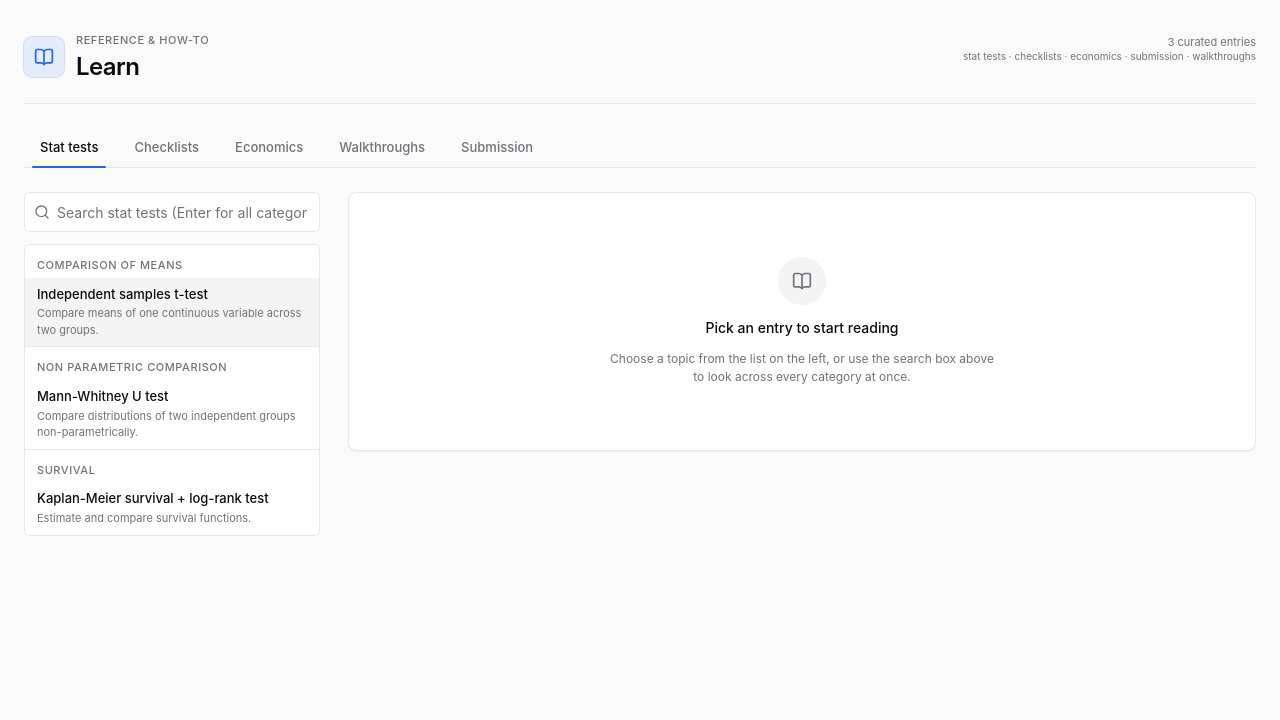
Test: LearnPage › filters the entry list when the user types in the search box
The width and height of the screenshot is (1280, 720).
Expected: the button with test id "learn-entry-independent-t-test" is shown, [25,278,319,346]
In the field with test id "learn-search-input": coordinates (172, 212) [24,192,320,232], type "mann"
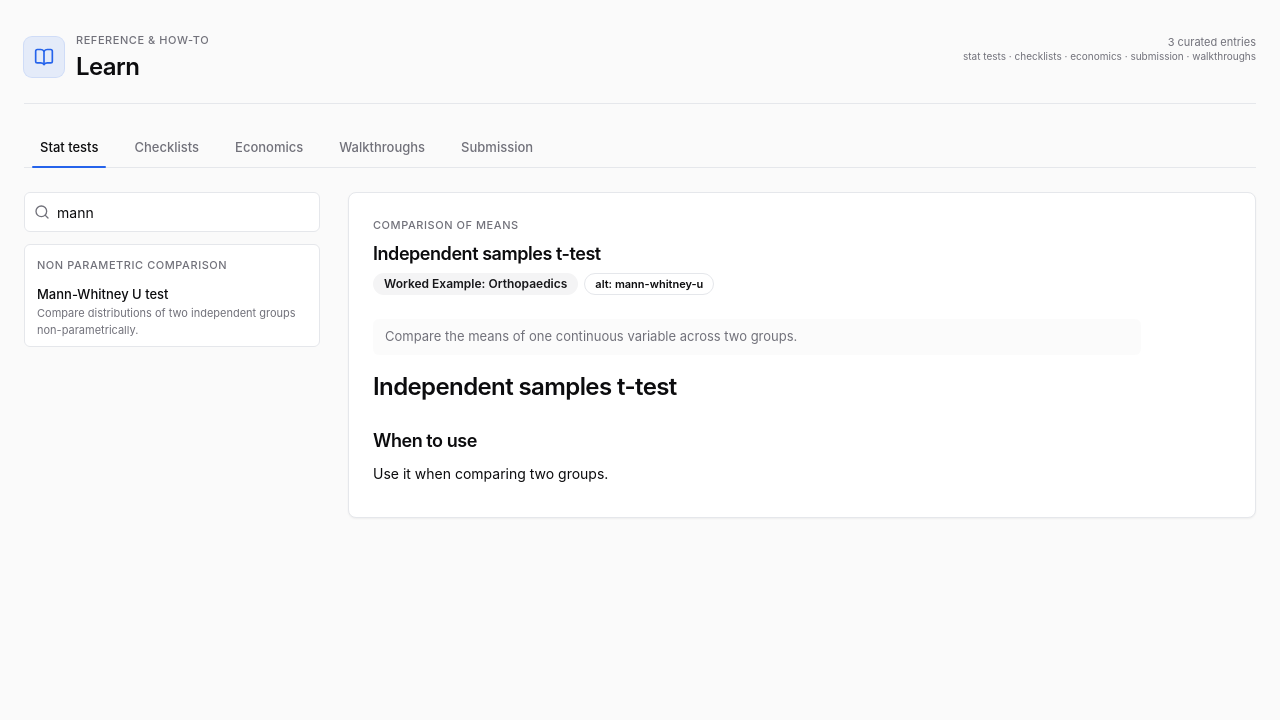
Expected: the button with test id "learn-entry-mann-whitney-u" is shown, [25,278,319,346]
Expected: the button with test id "learn-entry-independent-t-test" is gone
Expected: the button with test id "learn-entry-kaplan-meier-log-rank" is gone
